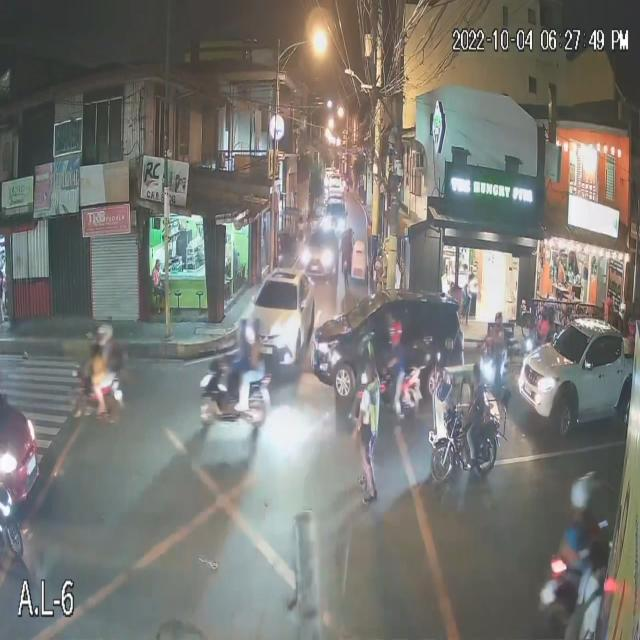Full-Faced: (560, 471, 601, 519), (236, 317, 253, 347), (250, 316, 266, 346), (99, 321, 116, 346)
Half-Faced: (85, 326, 102, 344)
